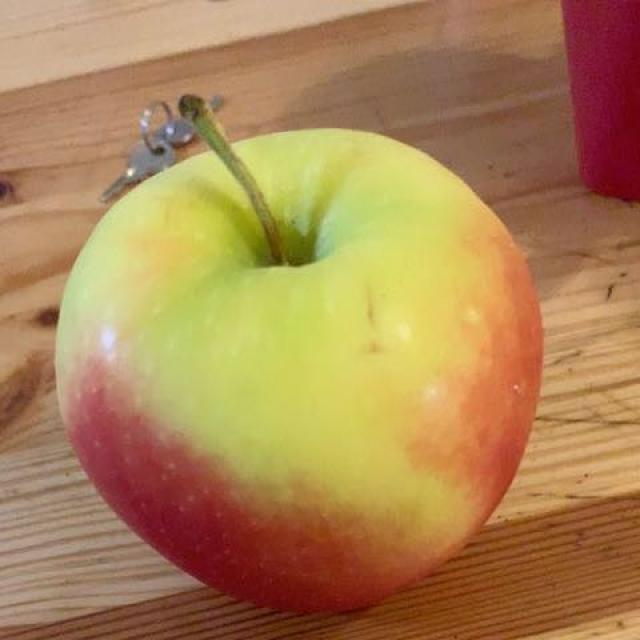Apple: (50, 76, 557, 624)
